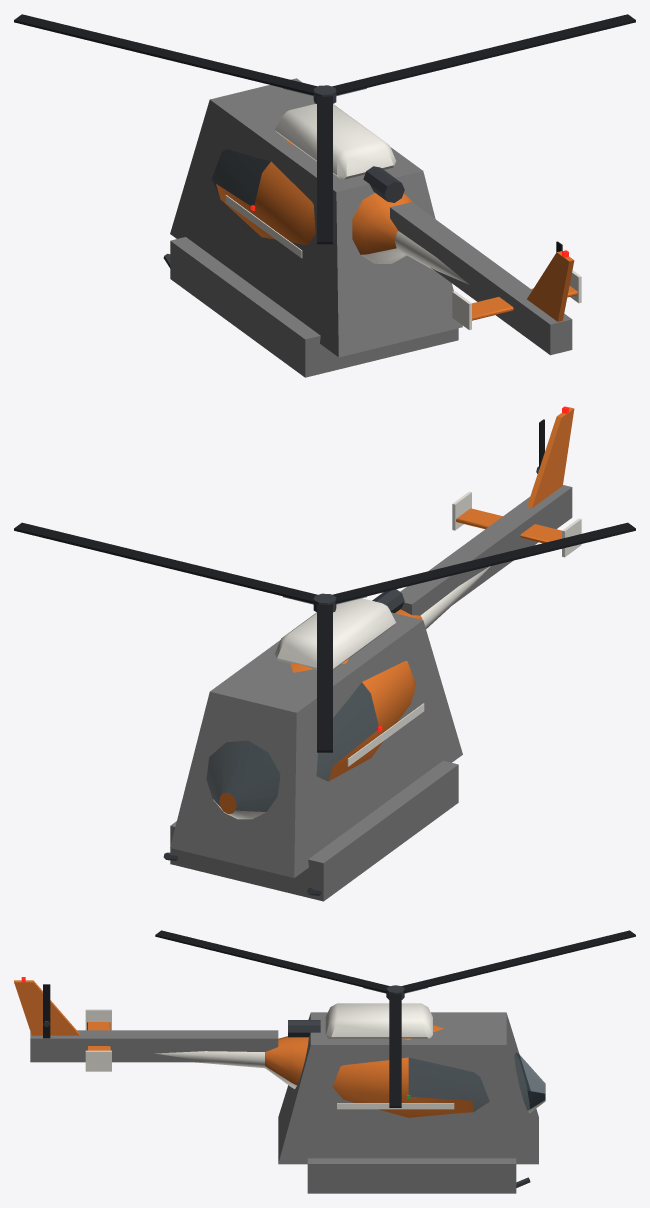
The model's file is helicopter.glb.
The picture shows the model from 3 angles, top to bottom: view 1: azimuth 30°, elevation 25°; view 2: azimuth 150°, elevation 25°; view 3: azimuth 270°, elevation 25°; orthographic projection. The views are drawn at different scales.
Parts seen in each view (by area): view 1: helicopter, helicopter_Body, helicopter_Rotor_Main; view 2: helicopter, helicopter_Body, helicopter_Rotor_Main; view 3: helicopter, helicopter_Body, helicopter_Rotor_Main, helicopter_Rotor_Tail.
Part boxes in pixels (<box>): helicopter: <box>170,78,572,377</box>; helicopter_Body: <box>163,104,581,329</box>; helicopter_Rotor_Main: <box>14,14,635,244</box>; helicopter: <box>170,485,572,901</box>; helicopter_Body: <box>163,406,581,895</box>; helicopter_Rotor_Main: <box>14,522,635,752</box>; helicopter: <box>30,1012,538,1193</box>; helicopter_Body: <box>14,977,545,1187</box>; helicopter_Rotor_Main: <box>155,930,635,1107</box>; helicopter_Rotor_Tail: <box>43,984,50,1038</box>.
Size of what is drawn, in the model's own units: 6.38 by 3.16 by 9.53.
